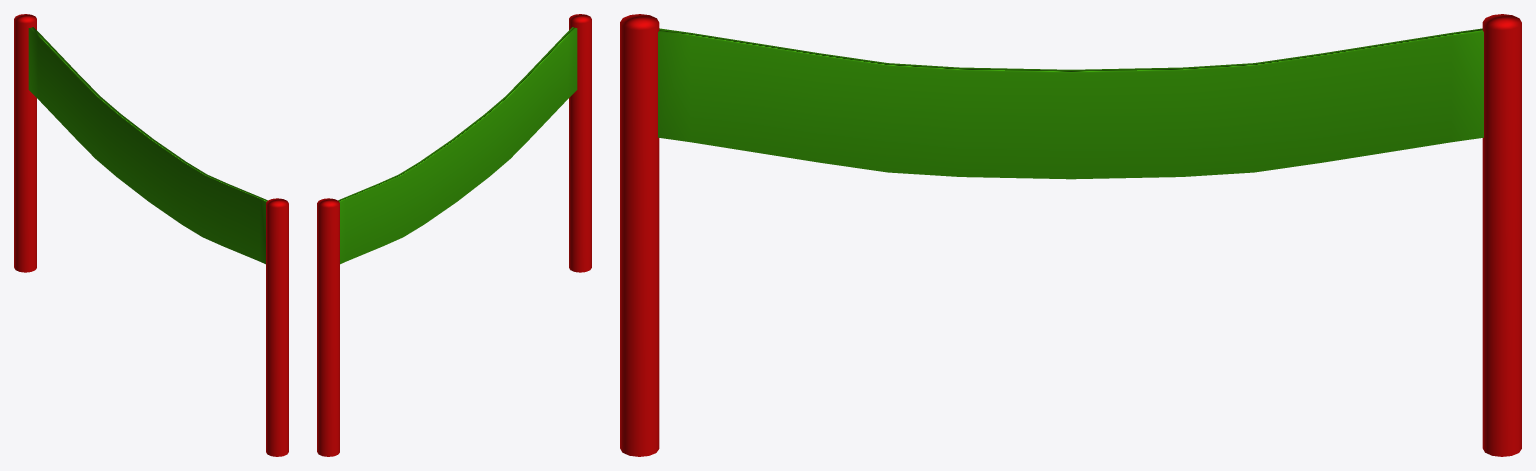
File: Banner_V001.fbx
3 renders of one model, left to right at view 1: azimuth 30°, elevation 25°; view 2: azimuth 150°, elevation 25°; view 3: azimuth 270°, elevation 25°, orthographic. The views are drawn at different scales.
Parts seen in each view (by area): view 1: pCube1, Pole1, Pole2; view 2: pCube1, Pole2, Pole1; view 3: pCube1, Pole1, Pole2.
Part boxes in pixels (left/top/right/bottom): pCube1: left=28, top=27, right=267, bottom=264; Pole1: left=266, top=198, right=288, bottom=456; Pole2: left=14, top=14, right=36, bottom=272; pCube1: left=338, top=27, right=577, bottom=264; Pole2: left=317, top=198, right=339, bottom=456; Pole1: left=569, top=14, right=591, bottom=272; pCube1: left=658, top=28, right=1483, bottom=179; Pole1: left=620, top=14, right=659, bottom=456; Pole2: left=1482, top=14, right=1521, bottom=456.
Size of the model in its own units: 0.9998 by 12 by 23.
